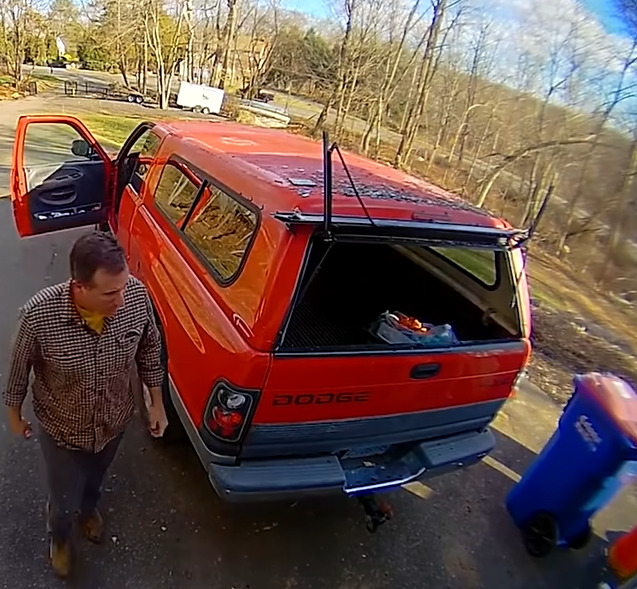person: (1, 231, 174, 579)
